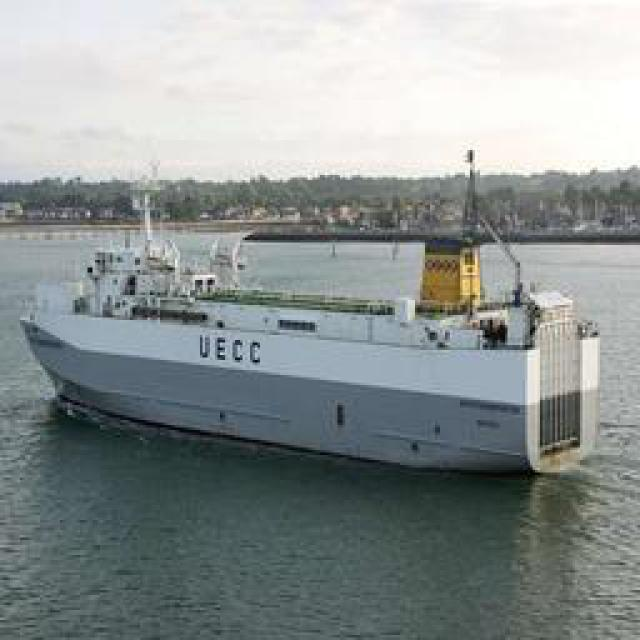Ship: (17, 245, 610, 475)
